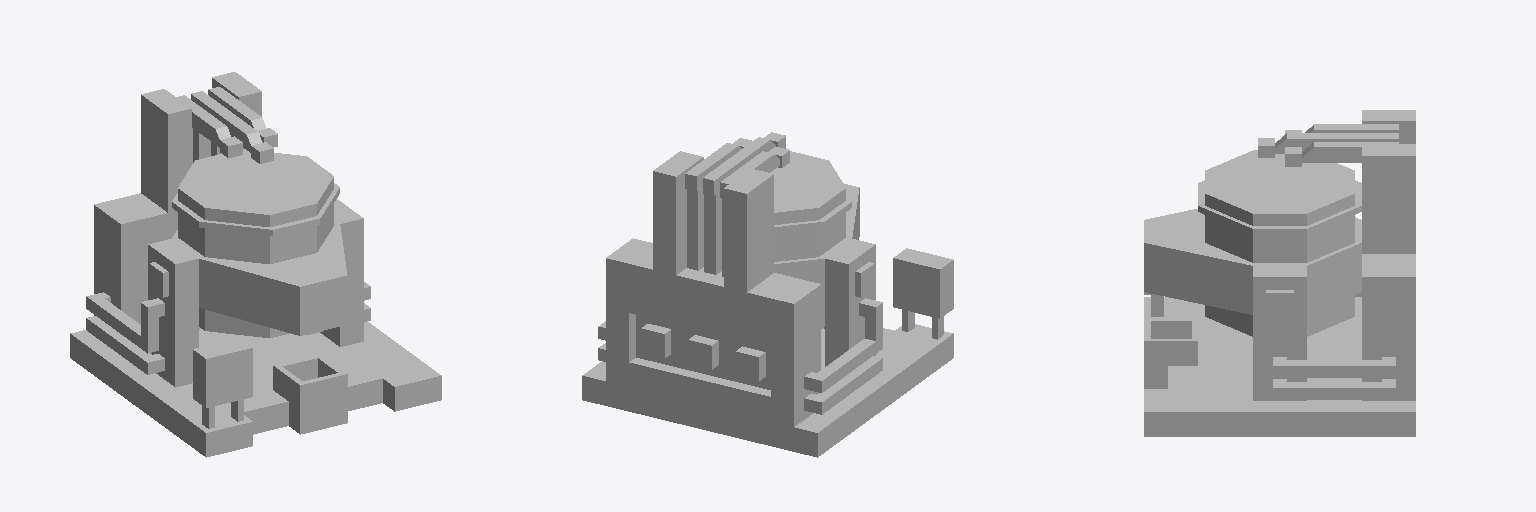
Rendered from arc_furnace.obj.
3 views of the same model, side by side, from view 1: azimuth 30°, elevation 25°; view 2: azimuth 150°, elevation 25°; view 3: azimuth 270°, elevation 25° (orthographic).
Parts seen in each view (by area): view 1: base, furnace; view 2: base, furnace; view 3: base, furnace.
Boxes of the visible parts, <box> form: base: <box>70,72,441,457</box>; furnace: <box>149,149,347,337</box>; base: <box>582,132,953,457</box>; furnace: <box>770,151,874,328</box>; base: <box>1144,110,1415,436</box>; furnace: <box>1144,150,1361,336</box>.
Size of the model in its own units: 5 by 5 by 5.